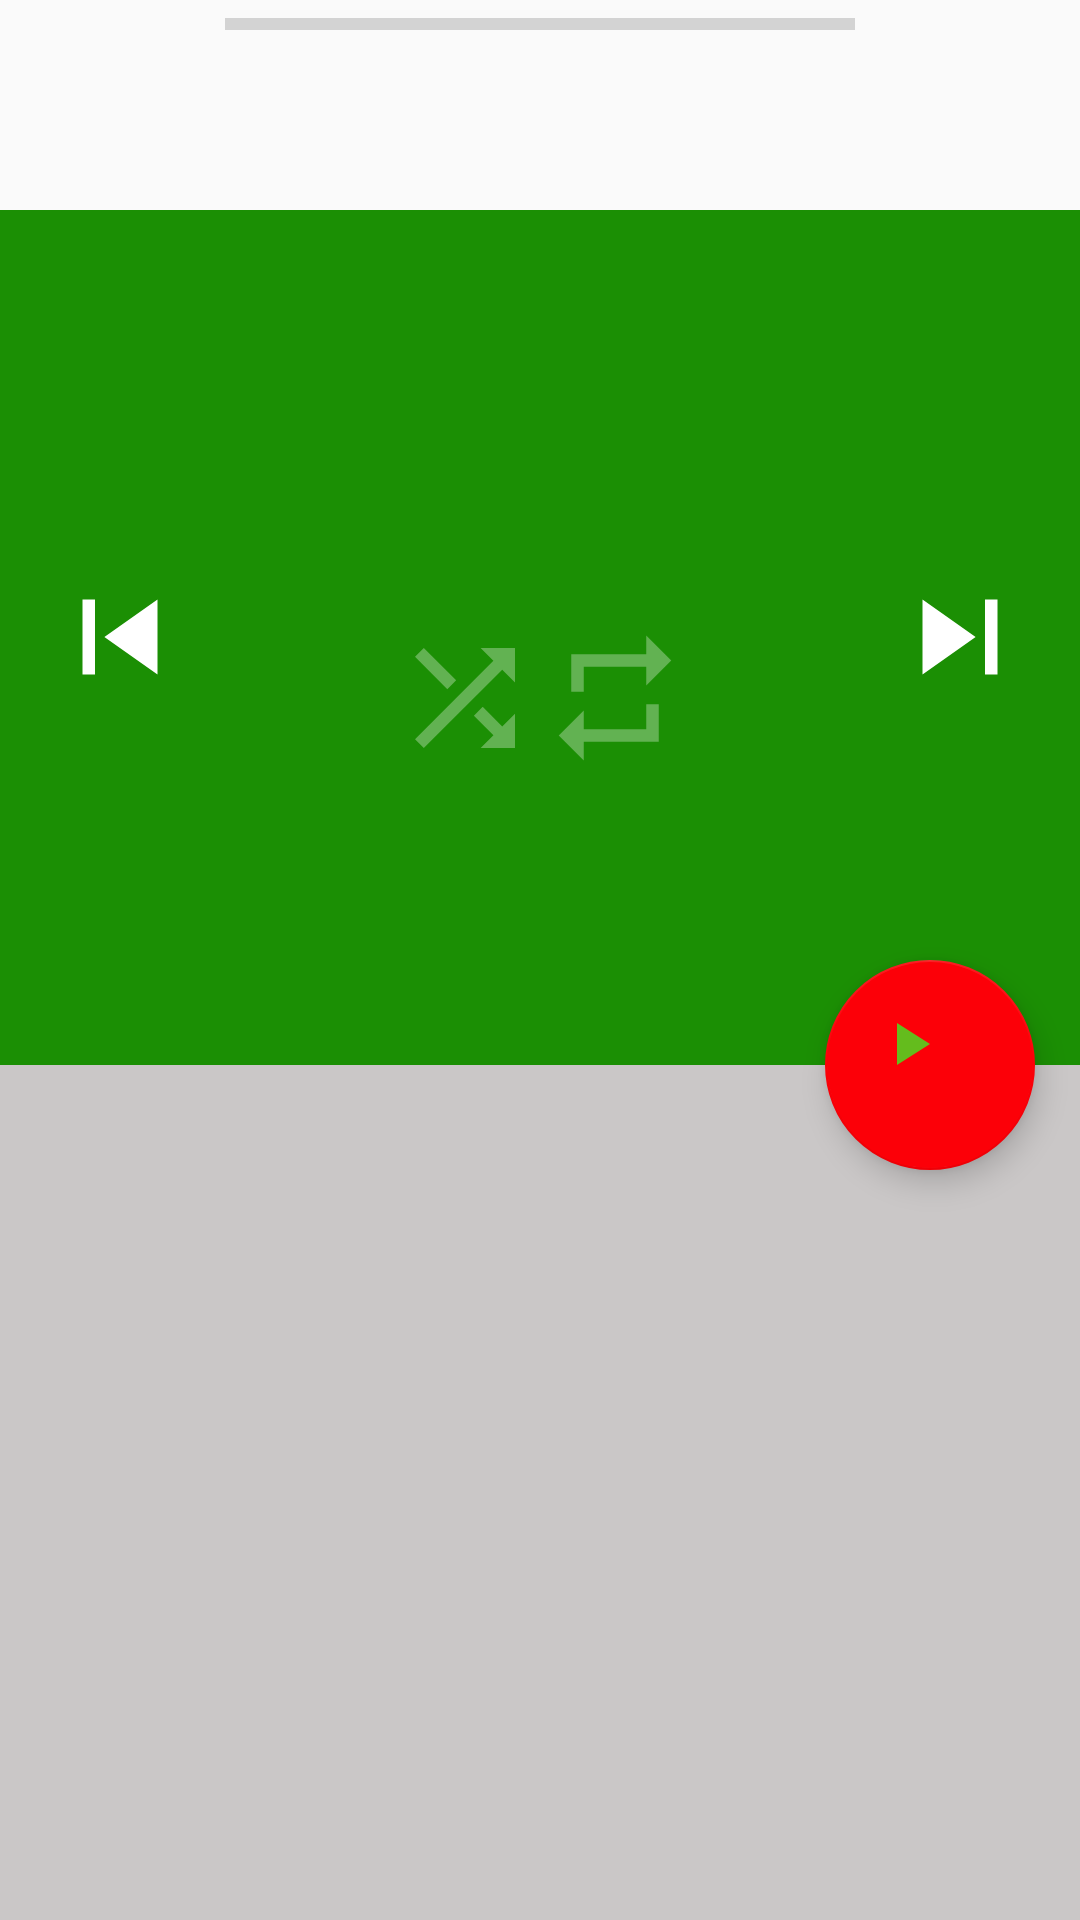

Named icons in this screenshot (1080w x 1920h) and their centers, [x,y]:
play: [930,1065]
shuffle unavailable: [465,698]
skip next: [960,637]
skip previous: [120,637]
